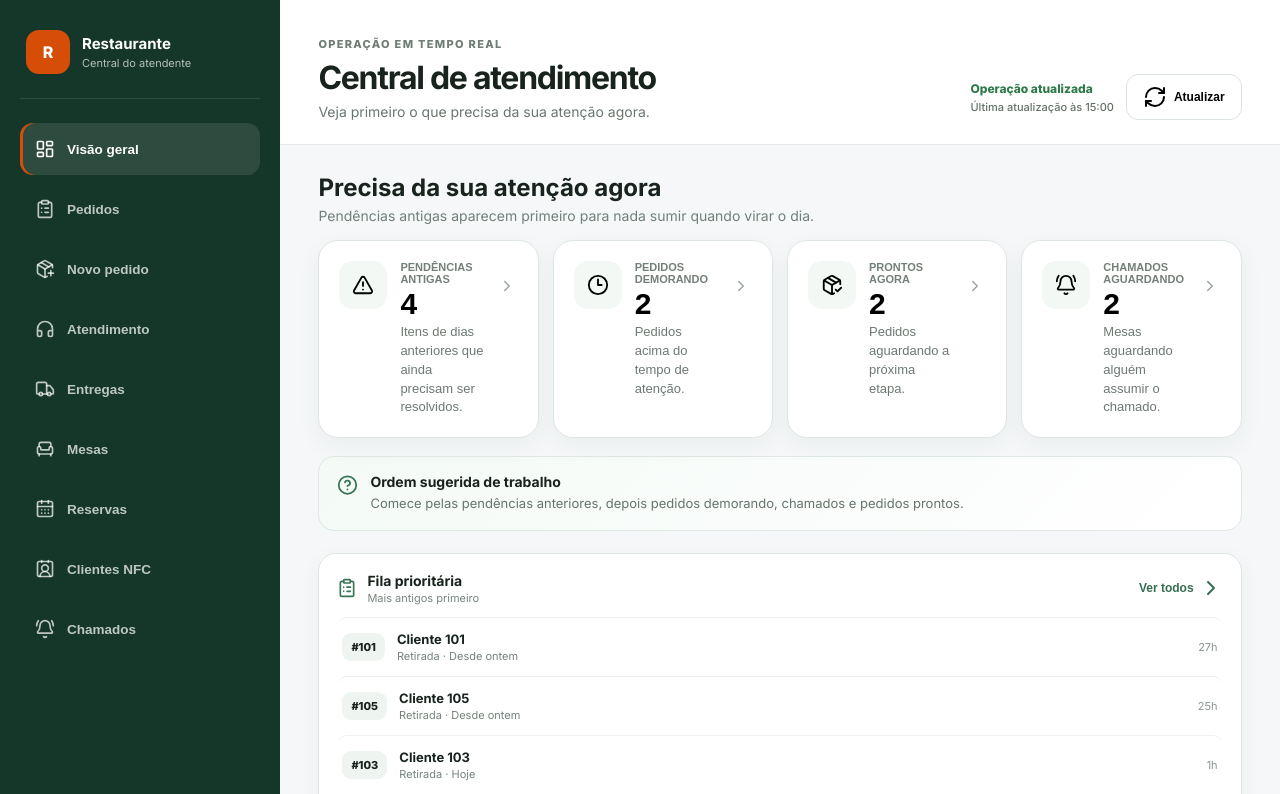
AttendantOperationCenterV2 priority navigation › preserva a consulta e o bloqueio de retirada não paga no drawer extraído
Click the button "Prontos agora 2 Pedidos aguardando a próxima etapa." at (897, 339), box left=787, top=240, right=1007, bottom=438
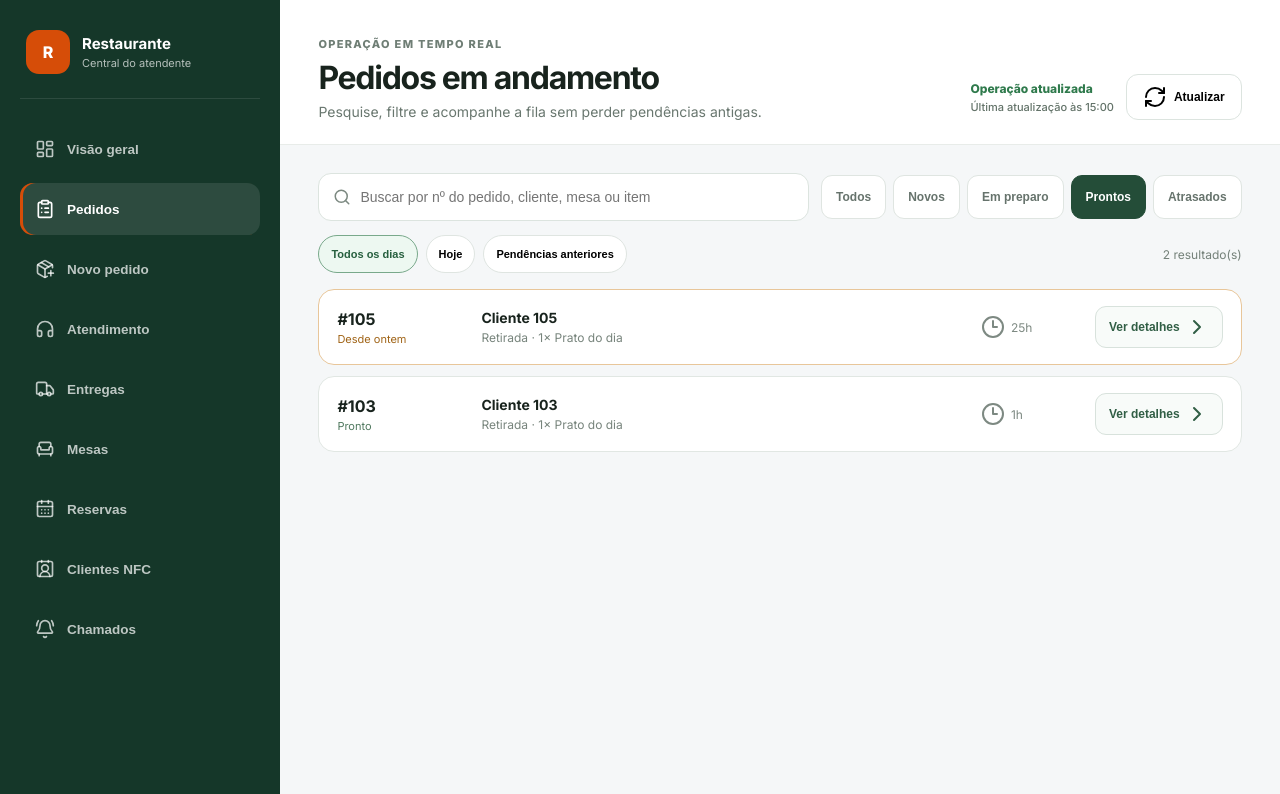
Check: the button "Ver detalhes" next to "1h" is shown
Click the button "Ver detalhes" next to "1h" at (1159, 414), box left=1095, top=393, right=1223, bottom=435
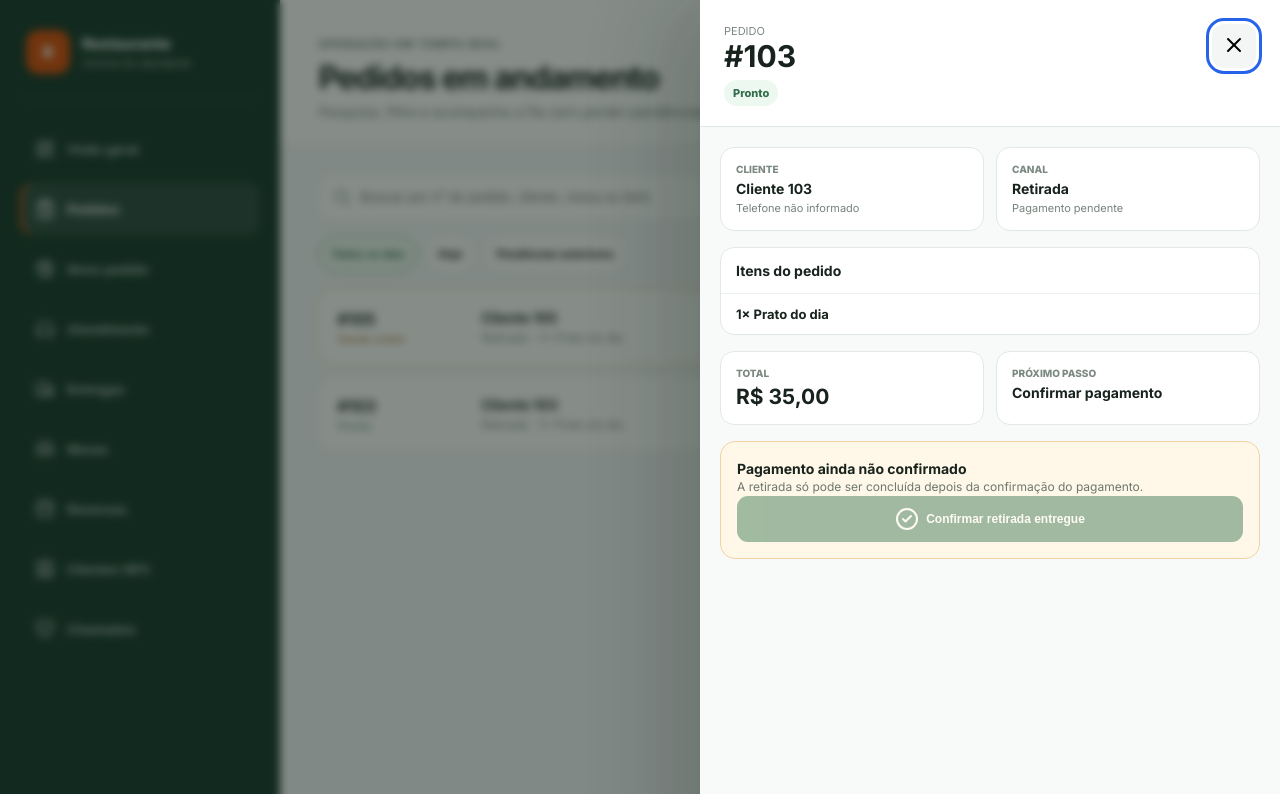
Check: the dialog shows "Pagamento ainda não confirmado", box left=737, top=460, right=966, bottom=477
Check: the button "Confirmar retirada entregue" is disabled, box left=737, top=496, right=1243, bottom=542
